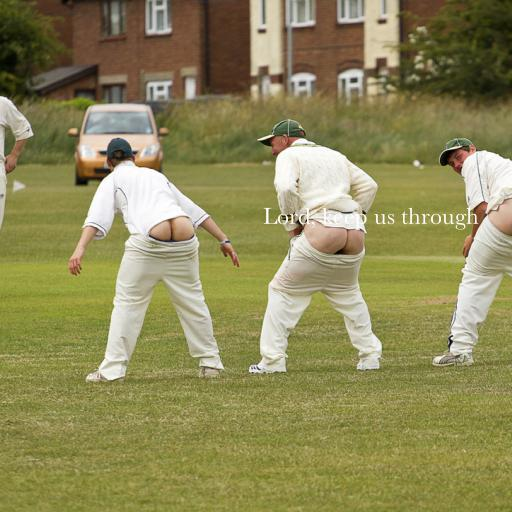Baskerville: (263, 207, 479, 230)
